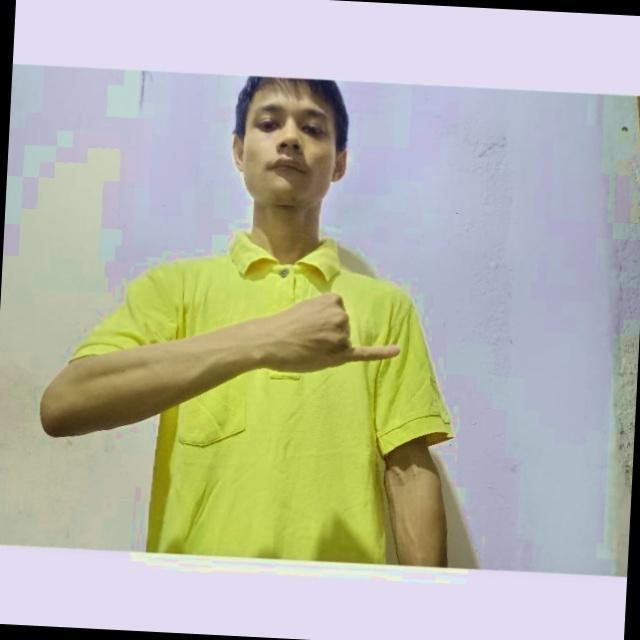J: (280, 286, 406, 374)
